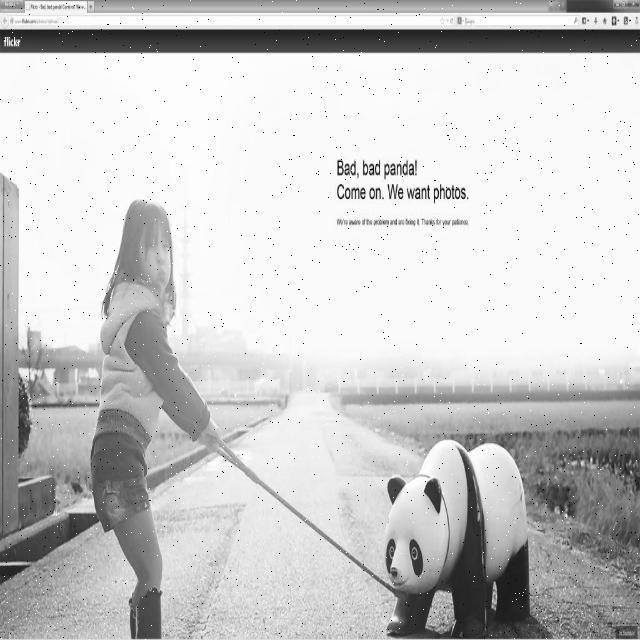panda: (373, 442, 527, 634)
